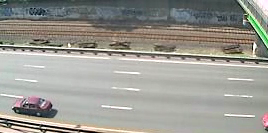car: (9, 95, 59, 118)
